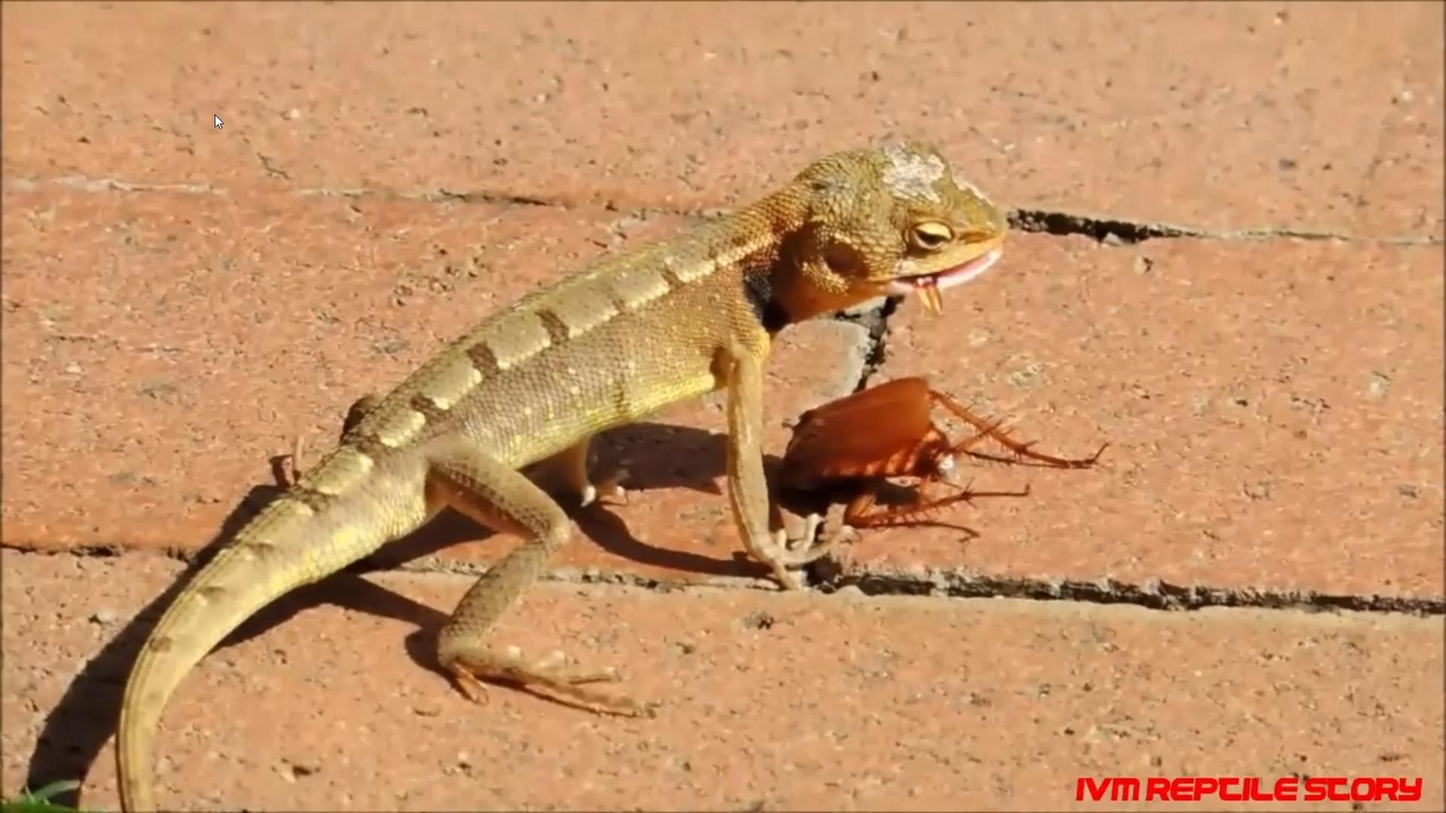cockroach: (780, 374, 1096, 542)
lizard: (95, 143, 1019, 745)
